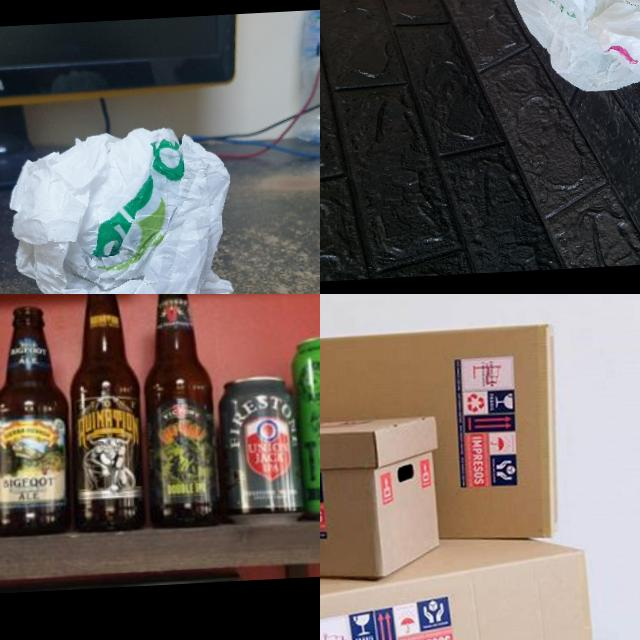garrafa de vidro: (63, 294, 148, 534), (135, 294, 220, 531), (0, 304, 75, 536)
lata: (215, 376, 306, 528), (292, 333, 320, 524)
papelão: (320, 324, 565, 554), (320, 527, 640, 640), (320, 416, 447, 590)
sacola plástica: (0, 115, 254, 294), (503, 0, 640, 108)
